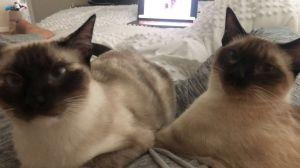siamese: (1, 10, 103, 132)
